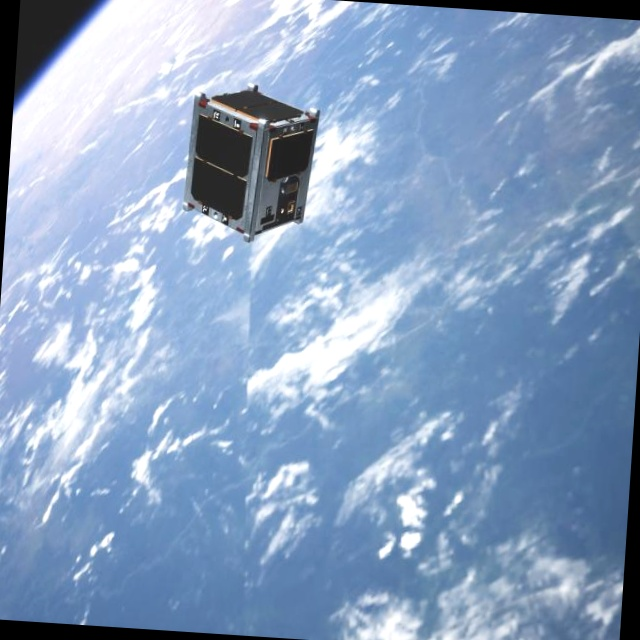medium_debris: (179, 79, 324, 249)
